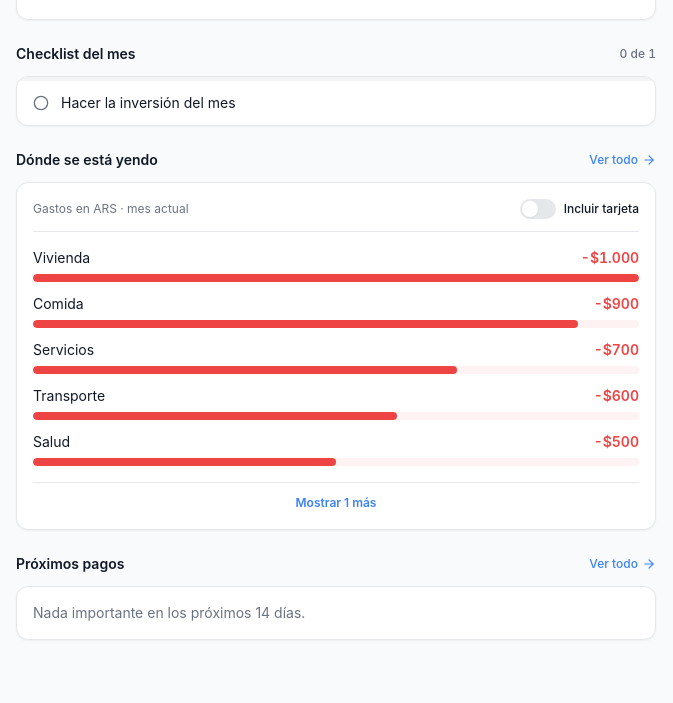
Test: Dashboard expense categories › expands all categories and collapses again
(page scrolled)
Click the button "Mostrar 1 más" at [336, 496], box [33,482,639,510]
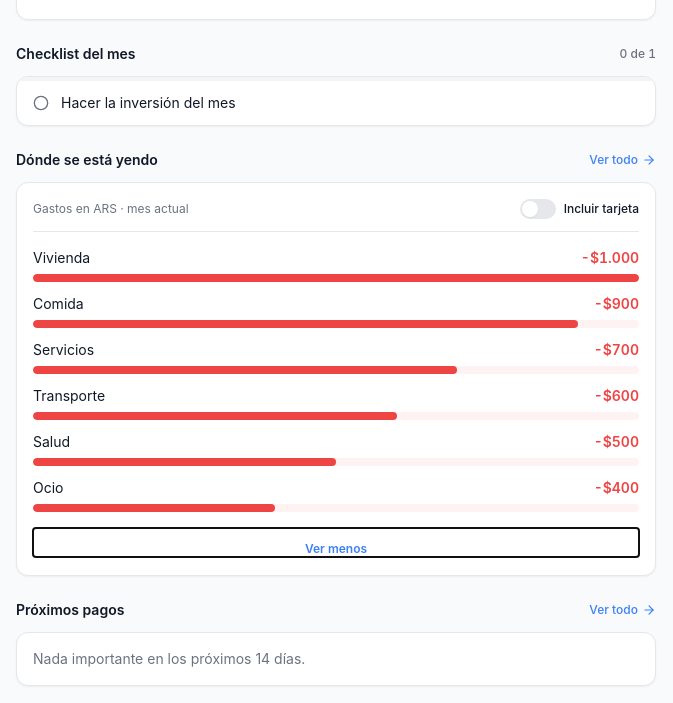
Expected: the text "ocio" is shown, [33,478,64,498]
Click the button "Ver menos" at [336, 542], box [33,528,639,556]
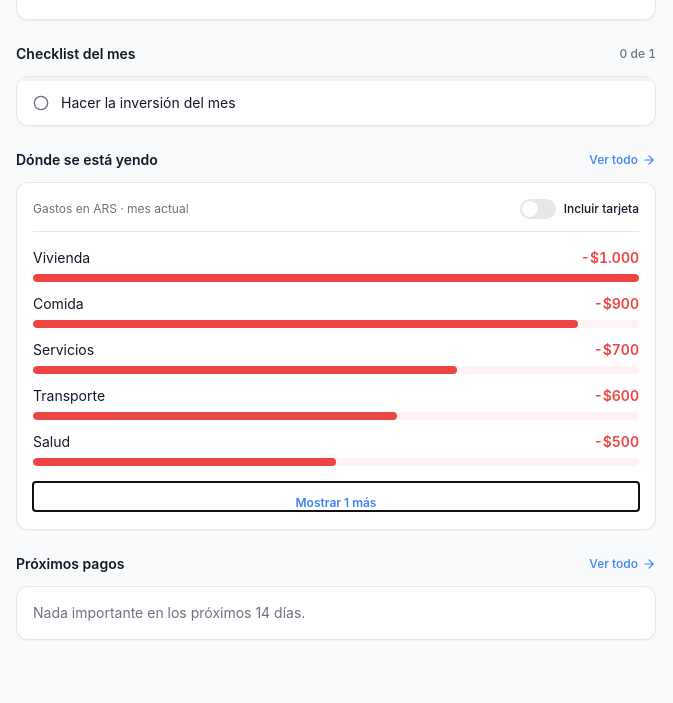
Expected: the text "ocio" is gone
